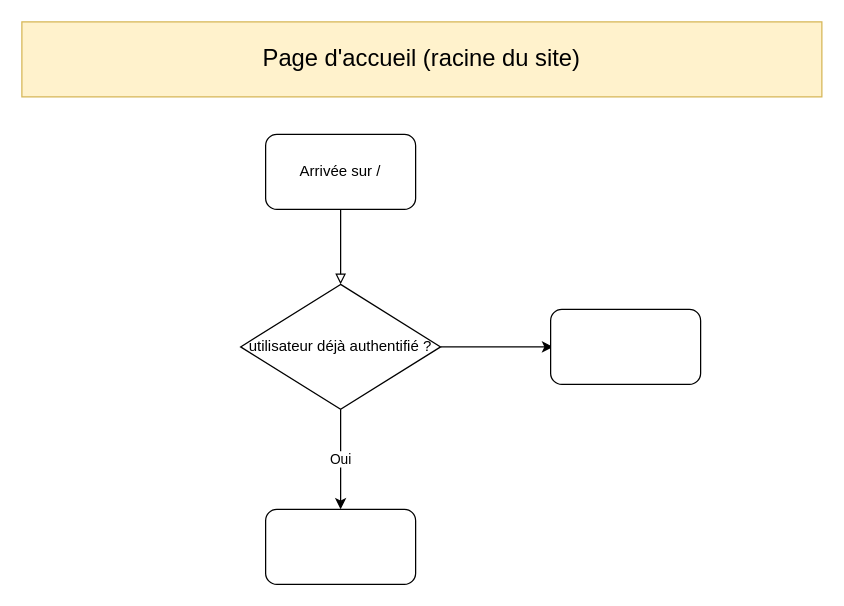
This 844x606 diagram has some shape labels left out. Each missing label, with the box of its shape:
Afficher page d'accueil: (264, 508, 416, 584)
Renvoyer vers /login: (549, 308, 701, 384)
